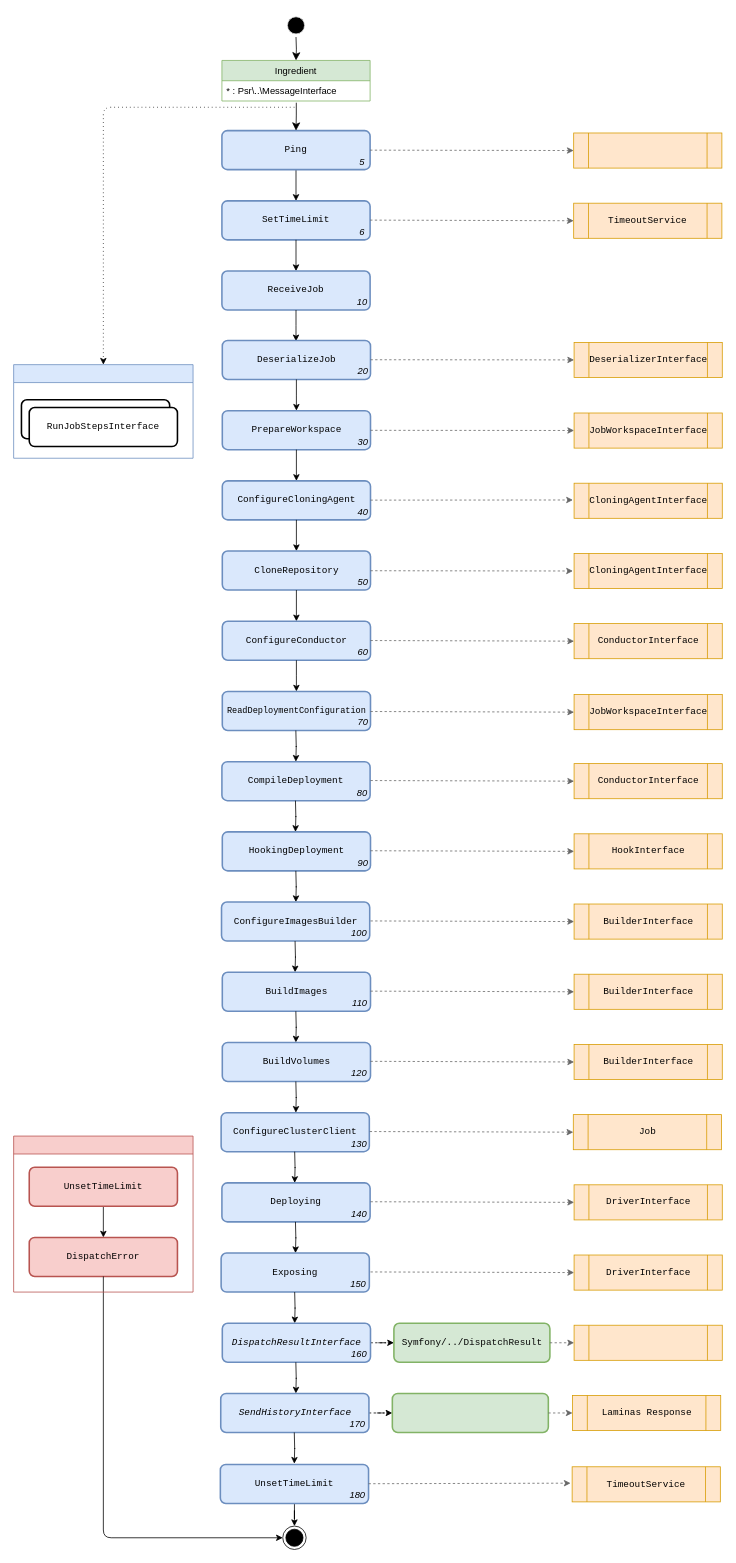
Some shapes in this 736 by 1563 pixel diagram are drawn without their labels. The shapes that lost their labels are listed below. From the top down, each one's centre as x and y in pixels, then its label:
the point at 647,150: PingService
the point at 103,411: To extends, add step in
the point at 103,1213: On Error
the point at 647,1342: Symfony/Messenger
the point at 470,1412: Laminas/../ SendHistory
